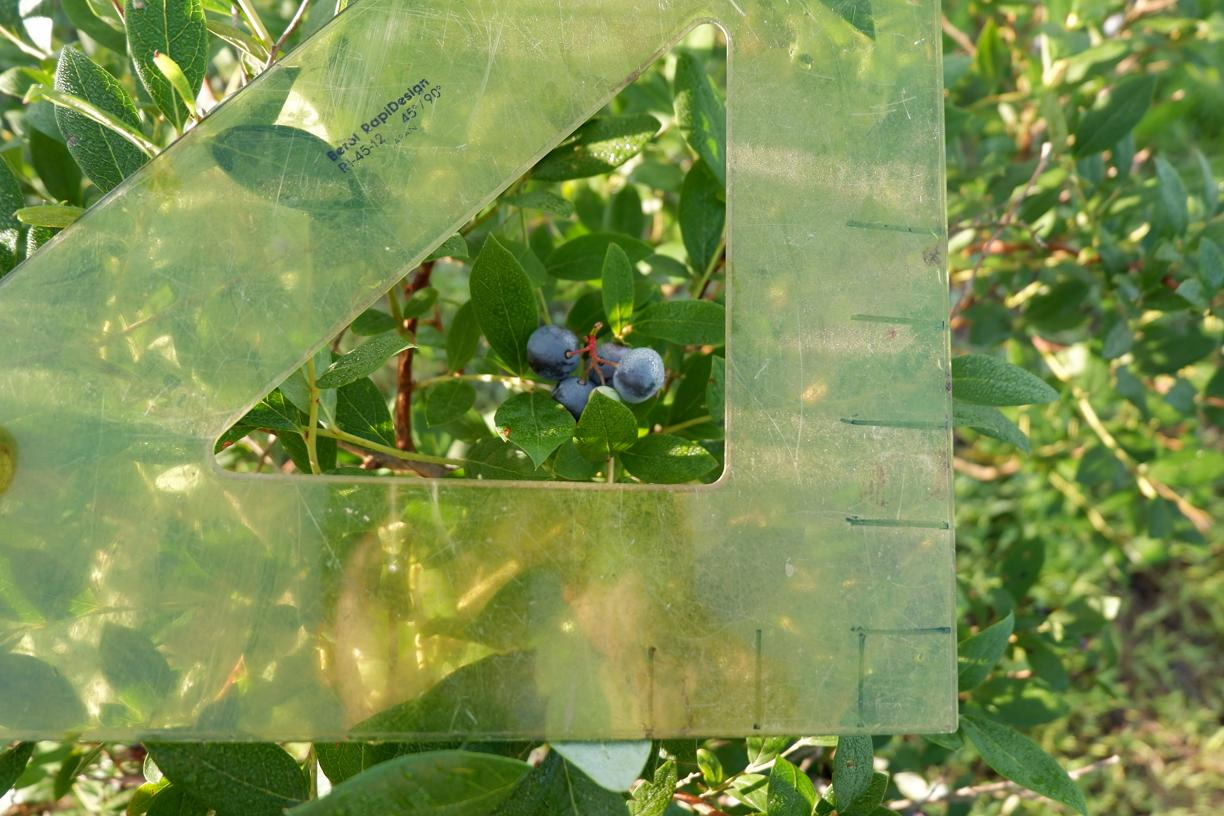Immature: (589, 386, 621, 404)
Mature: (527, 325, 581, 381), (612, 347, 665, 404), (585, 341, 632, 390), (552, 376, 598, 425)
